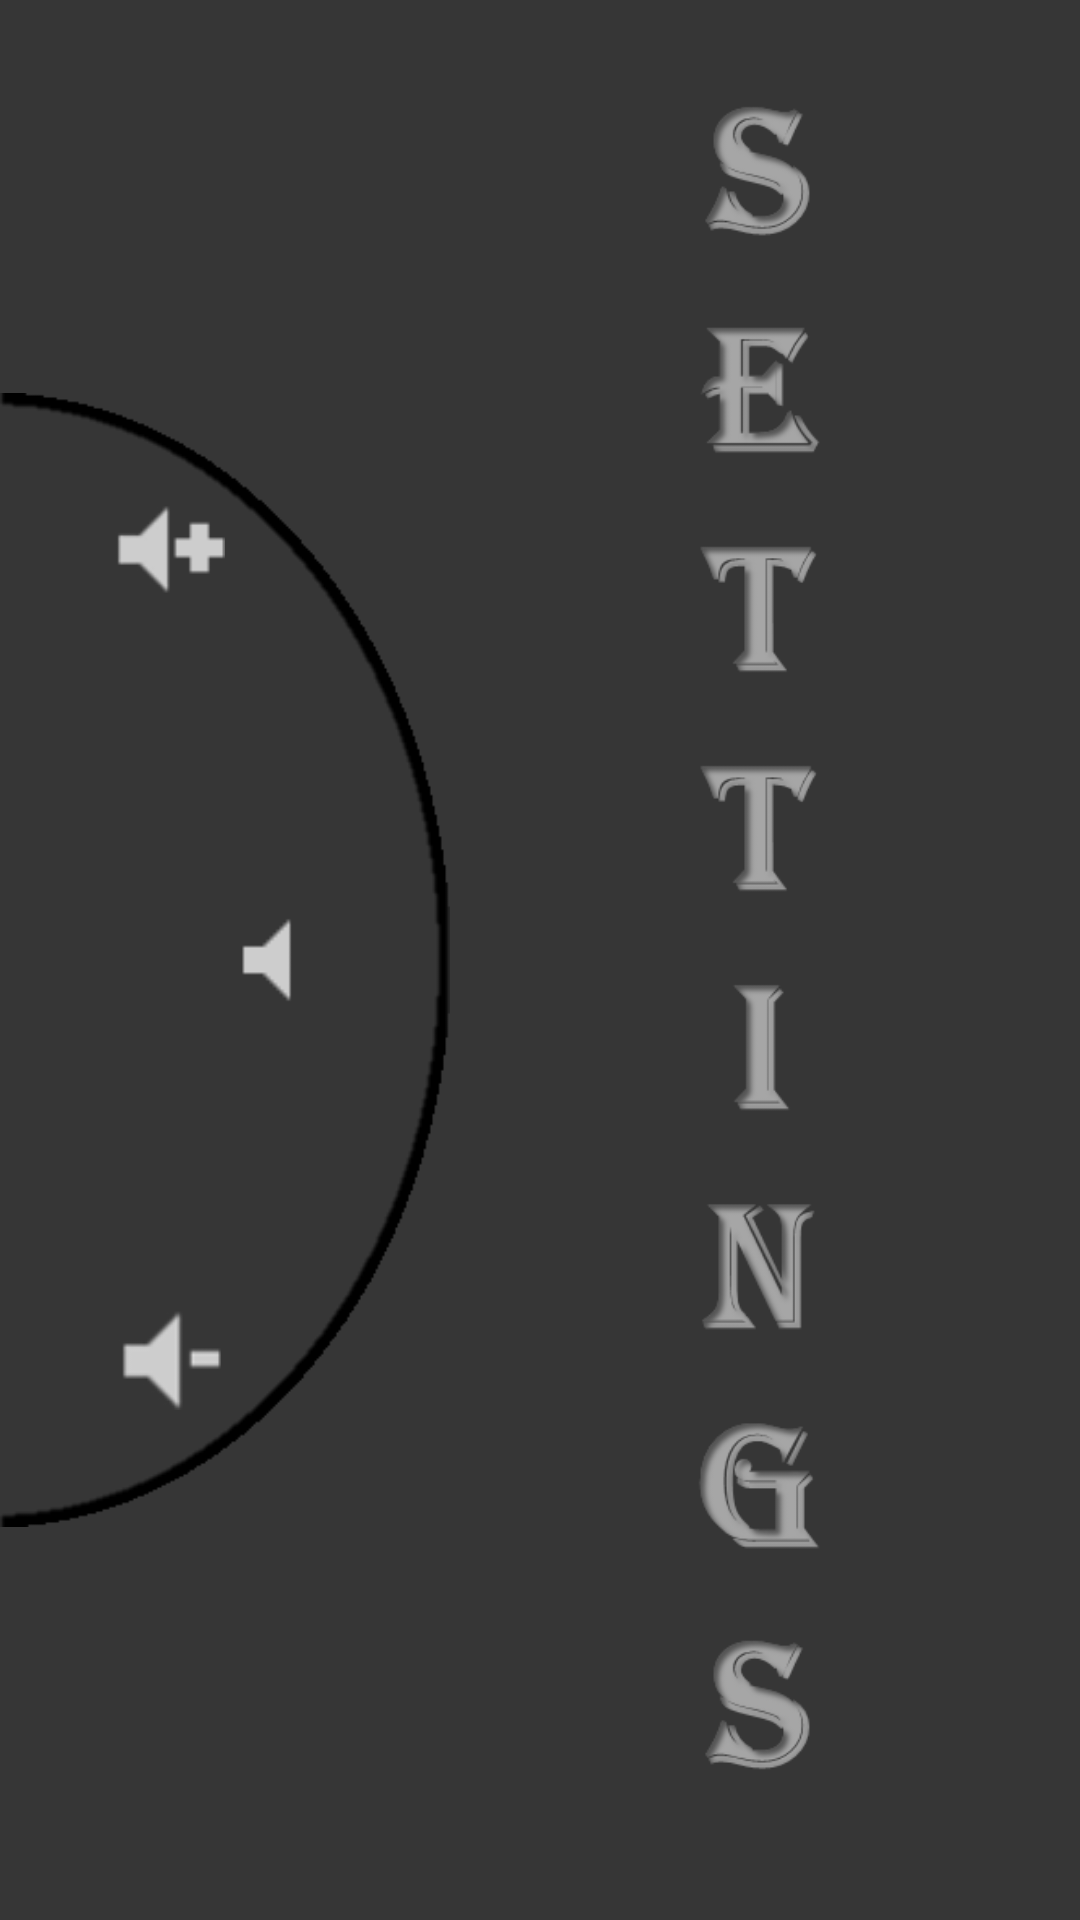

Named icons in this screenshot (1080w x 1920h) and their bounding boxes, bbox(x1, y1, x2, y2):
unmute: bbox(242, 919, 291, 1001)
volumedown: bbox(123, 1313, 221, 1408)
volumeup: bbox(118, 507, 225, 592)
